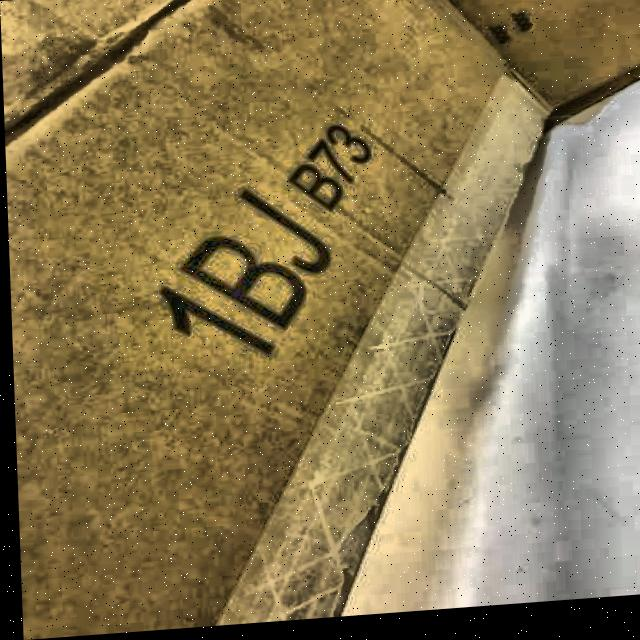cardboard: (2, 0, 640, 640)
